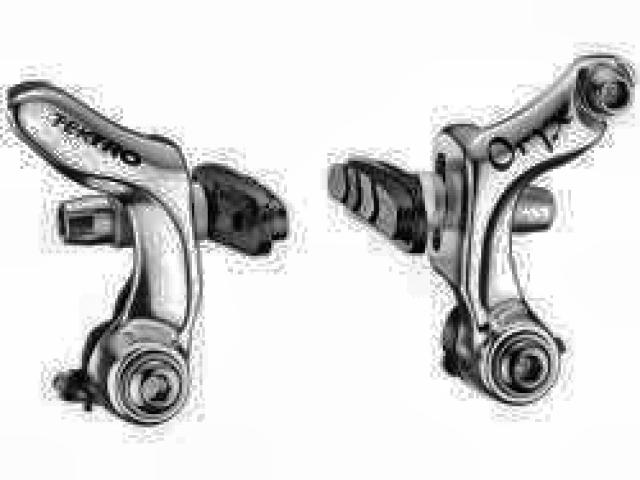rim_brake: (8, 47, 637, 428)
